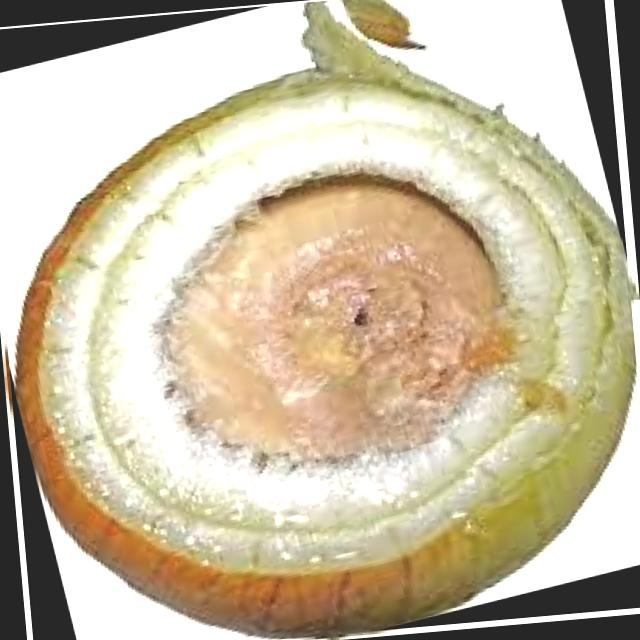rotten: (14, 0, 630, 635)
